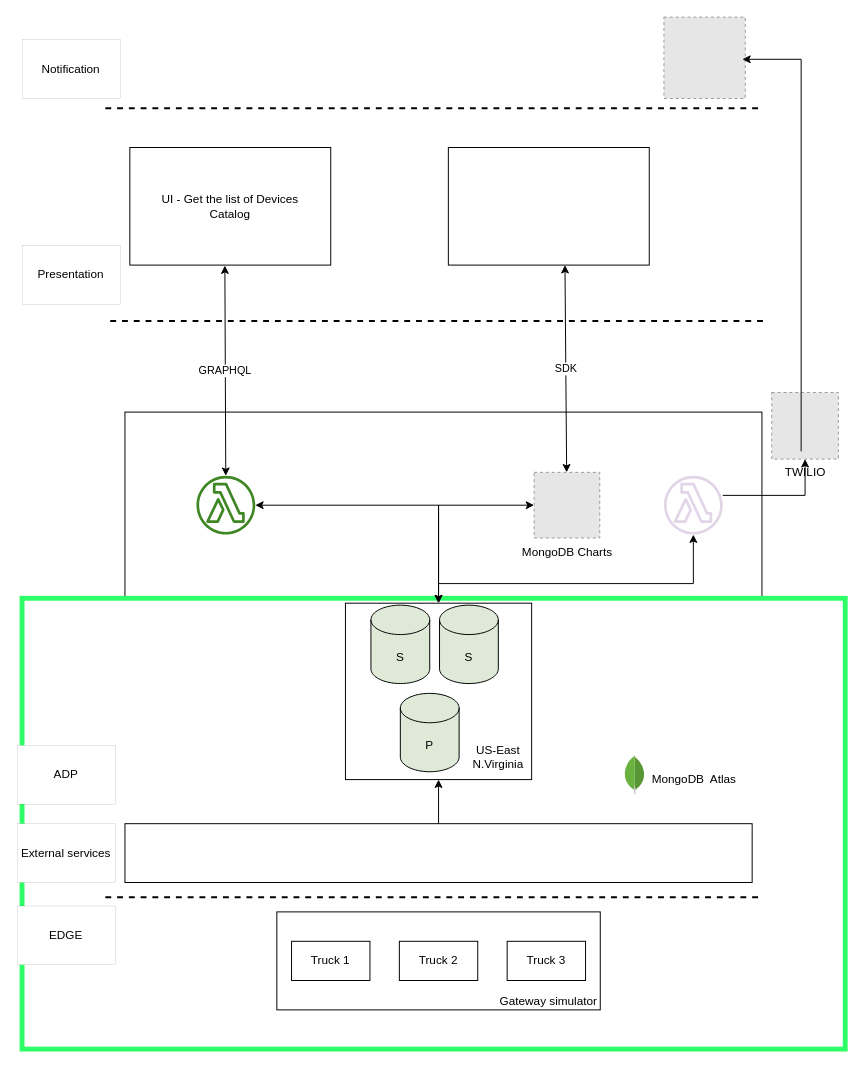
The diagram is 864 pixels wide and 1068 high, and some of its shapes have lost their labels. Grey dashed boxes stand in for pictures. Each missing label, with the centre of its shape:
"Confluent Kafka" belongs at pixel 438 852.
"RealM" belongs at pixel 225 504.
"RealM function" belongs at pixel 693 505.
"UI - Embeded Charts" belongs at pixel 548 206.
